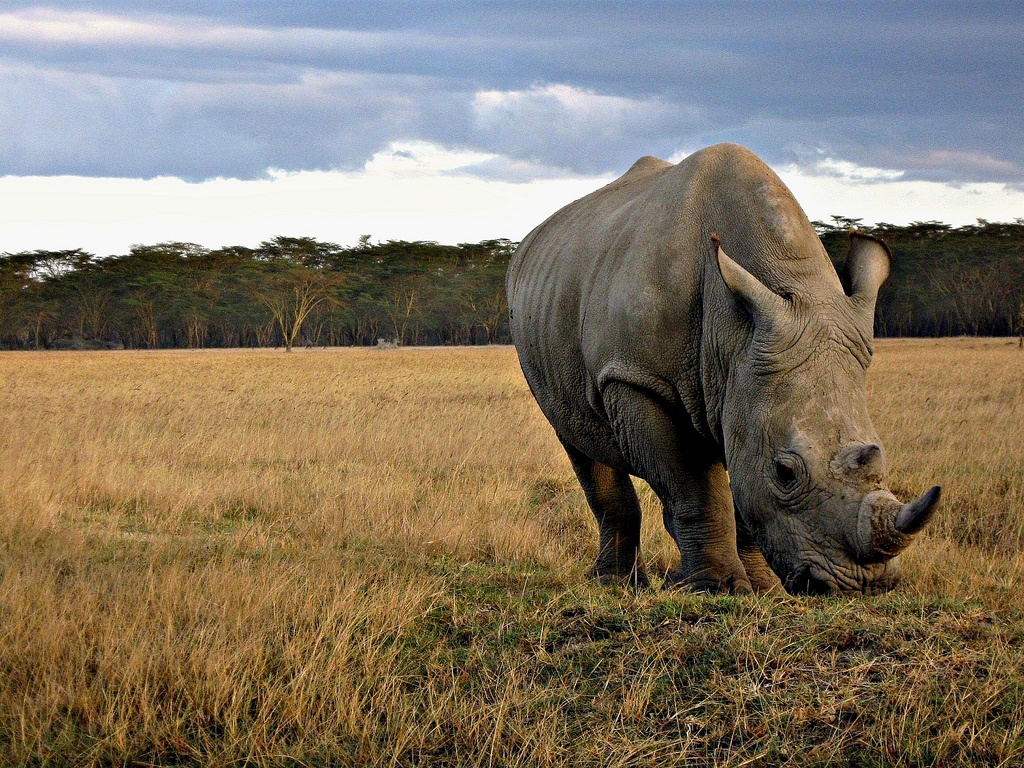rhino: (501, 144, 942, 595)
